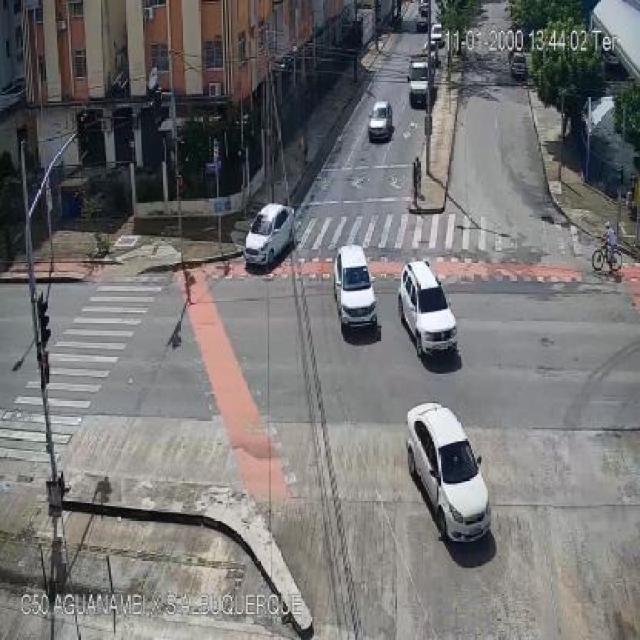Car: (405, 403, 493, 545), (398, 260, 459, 359), (332, 246, 379, 330), (243, 204, 295, 268), (367, 102, 393, 141), (510, 52, 528, 81), (428, 22, 446, 46)
Cycle: (589, 236, 624, 271)
Truck: (405, 53, 436, 105)
